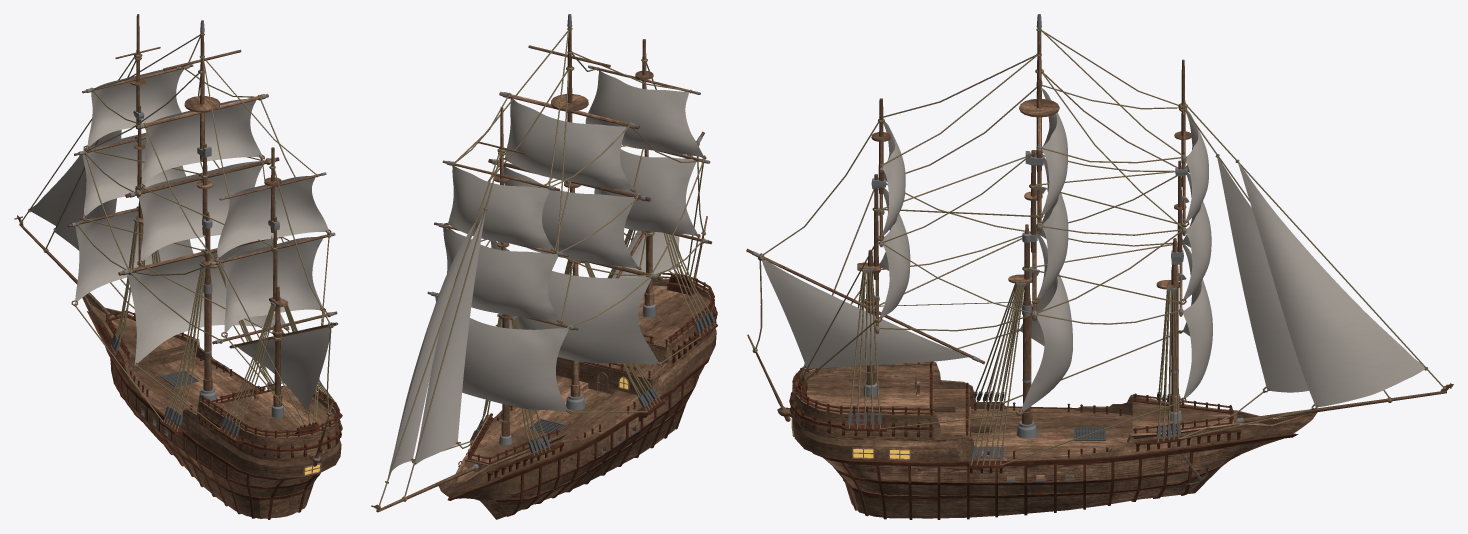
Rendered from Ship2.glb.
3 renders of one model, left to right at view 1: azimuth 30°, elevation 25°; view 2: azimuth 150°, elevation 25°; view 3: azimuth 270°, elevation 25°, orthographic. The views are drawn at different scales.
Visible parts, largest first — view 1: BackJib_Sails_0, MainShip_MainShip_0, ForeMast_Poles_0, Cylinder.068_Ropes_0, BeamDetails_Details_0, ForeshroudDetail_Metal_0; view 2: BackJib_Sails_0, MainShip_MainShip_0, Cylinder.068_Ropes_0, ForeMast_Poles_0, BeamDetails_Details_0, ForeshroudDetail_Metal_0; view 3: BackJib_Sails_0, MainShip_MainShip_0, Cylinder.068_Ropes_0, ForeMast_Poles_0, BeamDetails_Details_0, ForeshroudDetail_Metal_0.
Boxes of the visible parts, x1,y1,x2,y2 form: BackJib_Sails_0: [30, 68, 329, 411]; MainShip_MainShip_0: [71, 145, 342, 518]; ForeMast_Poles_0: [14, 14, 338, 466]; Cylinder.068_Ropes_0: [19, 33, 340, 439]; BeamDetails_Details_0: [97, 310, 341, 519]; ForeshroudDetail_Metal_0: [110, 334, 339, 437]; BackJib_Sails_0: [387, 70, 703, 478]; MainShip_MainShip_0: [411, 155, 717, 519]; Cylinder.068_Ropes_0: [378, 28, 715, 508]; ForeMast_Poles_0: [371, 14, 712, 512]; BeamDetails_Details_0: [458, 272, 716, 516]; ForeshroudDetail_Metal_0: [473, 311, 715, 455]; BackJib_Sails_0: [762, 88, 1425, 414]; MainShip_MainShip_0: [789, 151, 1318, 518]; Cylinder.068_Ropes_0: [752, 28, 1445, 465]; ForeMast_Poles_0: [746, 14, 1453, 438]; BeamDetails_Details_0: [790, 361, 1241, 519]; ForeshroudDetail_Metal_0: [848, 391, 1180, 482].
Bounding box in the file's own units: 159 × 390 × 511.
Materials: 11 (10 with a texture image).
